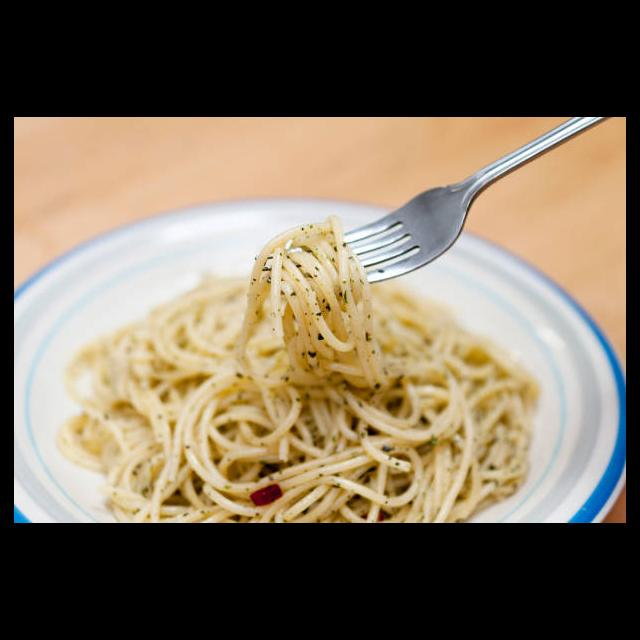noodles: (53, 217, 542, 523)
